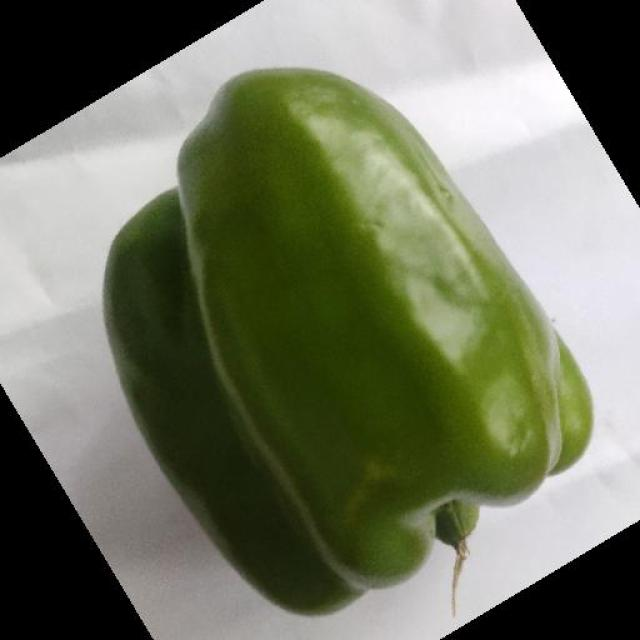Fresh_Capsicum: (117, 168, 582, 584)
